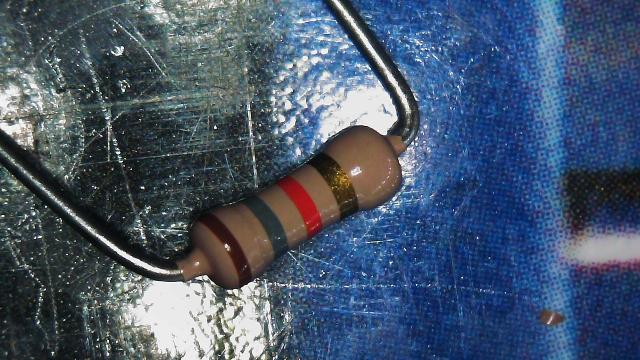brown: (200, 212, 252, 286)
gold: (308, 152, 358, 218)
grey: (240, 195, 288, 260)
orange: (278, 176, 322, 236)
resistor: (151, 99, 440, 325)
